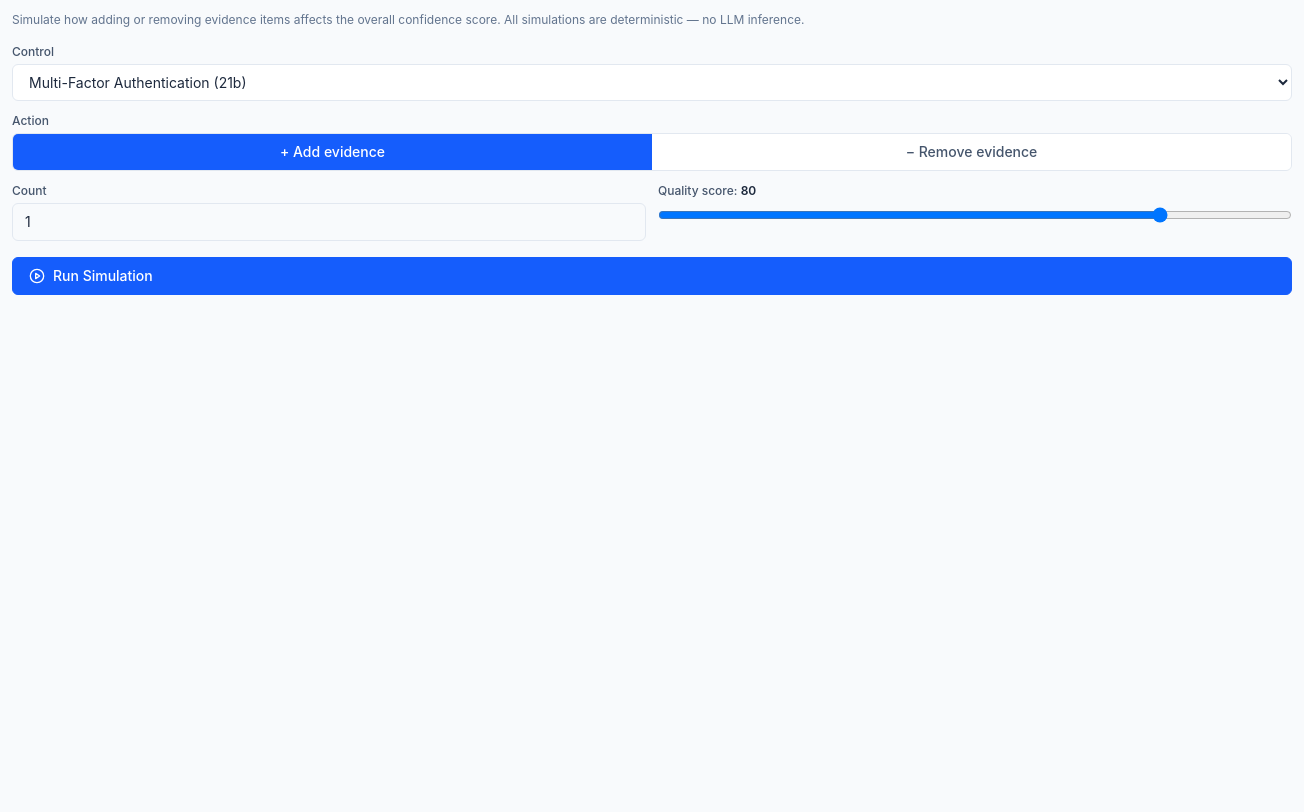
Test: WhatIfPanel › shows result after simulation
Click the button with test id "simulate-button" at (103, 276), box [12,257,1292,295]
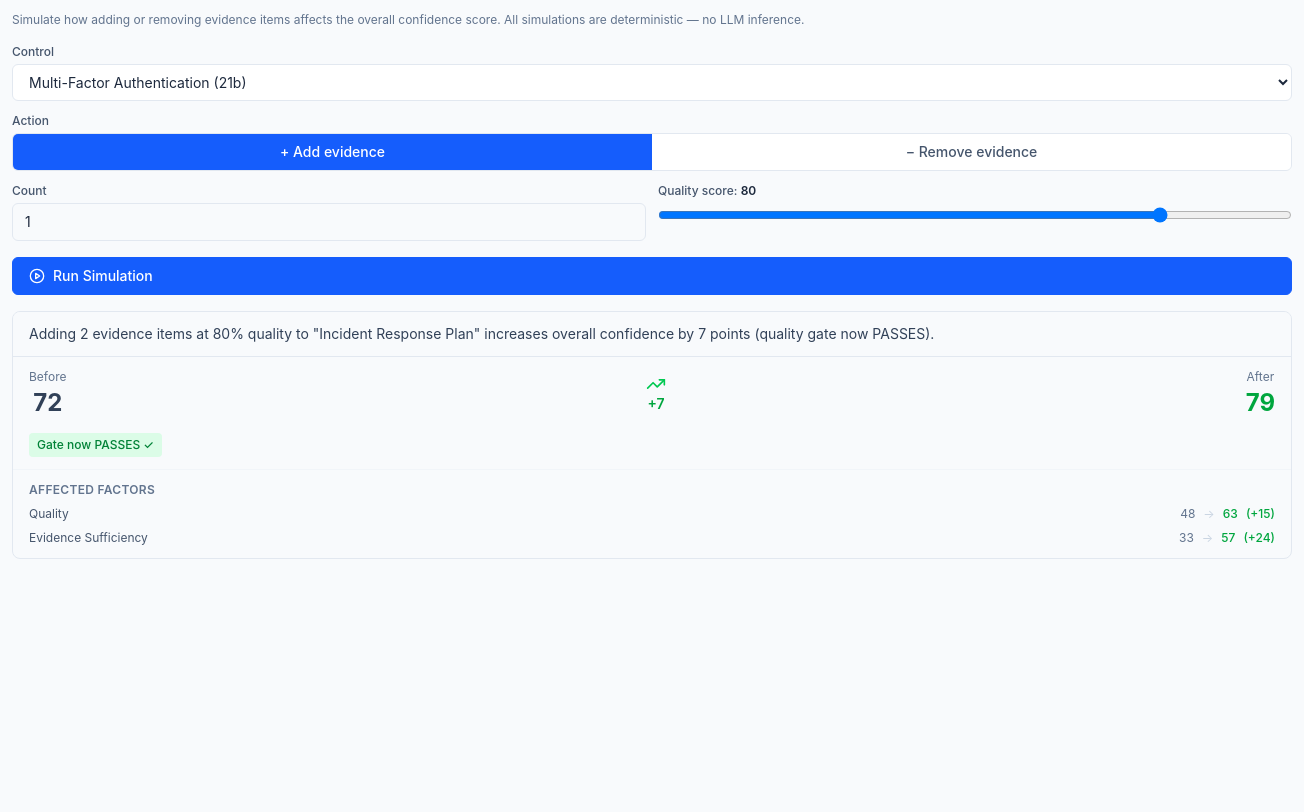
Now the element with test id "what-if-result" is shown, box [12,311,1292,559]
